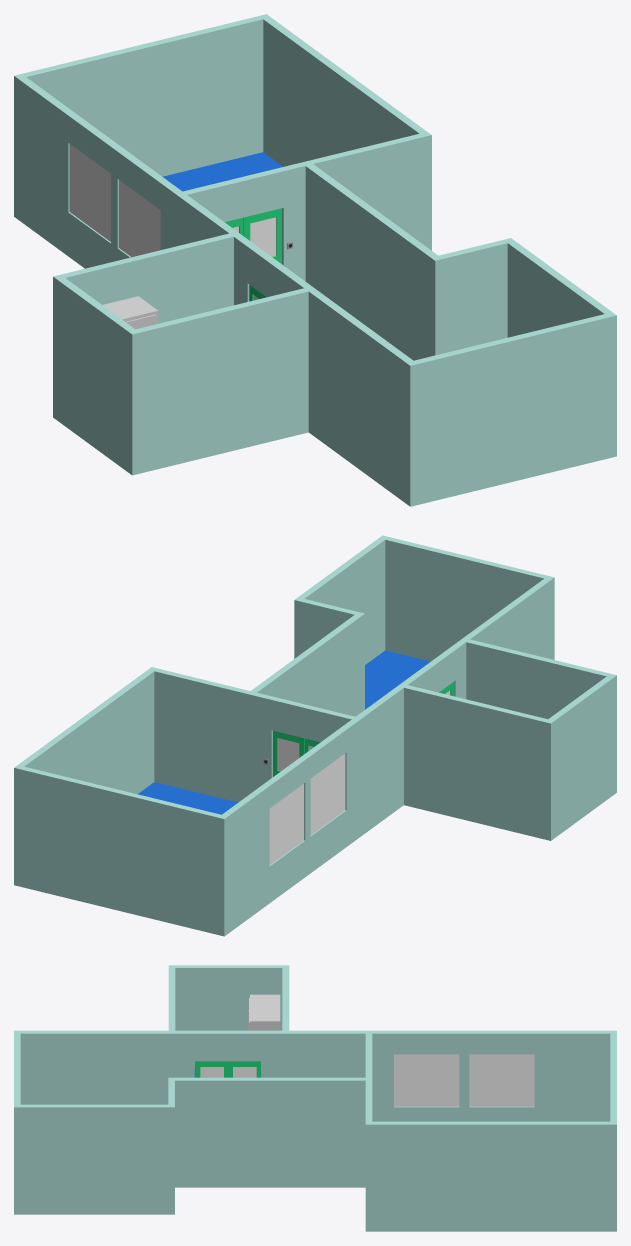
Rendered from environtment new.fbx.
The picture shows the model from 3 angles, top to bottom: view 1: azimuth 30°, elevation 25°; view 2: azimuth 150°, elevation 25°; view 3: azimuth 270°, elevation 25°; orthographic projection. The views are drawn at different scales.
Parts seen in each view (by area): view 1: PONDASI, Cube.001, Cube, Cube.002, jendela 2, pintu 2; view 2: PONDASI, Cube, Cube.001, jendela 2; view 3: PONDASI, Cube, Cube.001, Cube.002.
Boxes of the visible parts, x1,y1,x2,y2 form: PONDASI: (14,14,616,506); Cube.001: (69,144,110,241); Cube: (119,180,160,257); Cube.002: (102,296,158,323); jendela 2: (250,217,276,256); pintu 2: (246,208,281,263); PONDASI: (14,535,616,936); Cube: (310,753,345,834); Cube.001: (269,784,303,864); jendela 2: (277,738,299,770); PONDASI: (14,965,616,1231); Cube: (394,1054,459,1106); Cube.001: (469,1054,534,1106); Cube.002: (250,994,280,1077).
Size of the model in its own units: 1655 by 520 by 2648.
